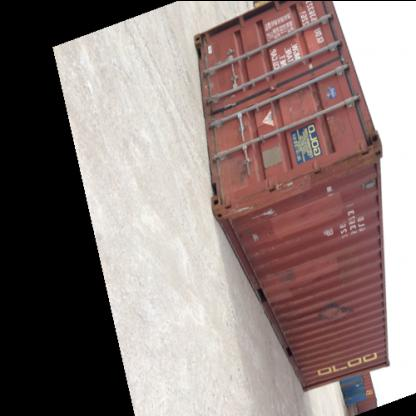Damage: (239, 205, 291, 247), (285, 78, 319, 118), (312, 298, 356, 328), (272, 168, 307, 196), (228, 152, 258, 182), (280, 264, 302, 297), (318, 223, 340, 244), (322, 182, 340, 200)
